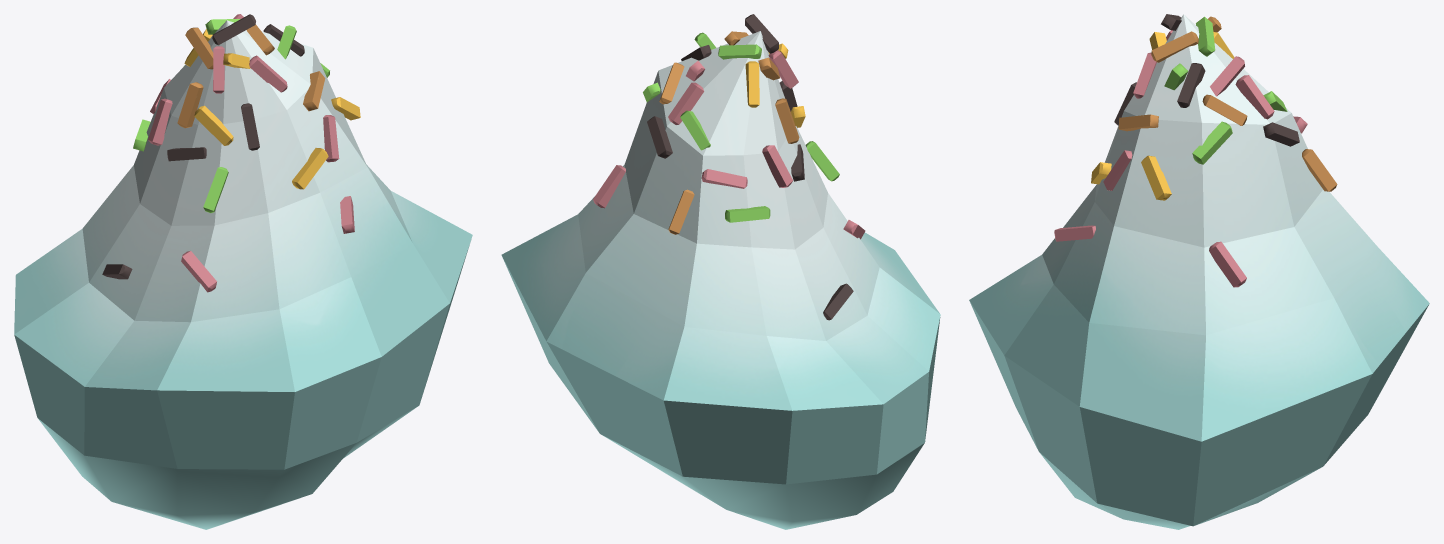
File: shabed06.fbx
3 views of the same model, side by side, from view 1: azimuth 30°, elevation 25°; view 2: azimuth 150°, elevation 25°; view 3: azimuth 270°, elevation 25° (orthographic). The views are drawn at different scales.
Visible parts, largest first — view 1: shabed06; view 2: shabed06; view 3: shabed06.
Part boxes in pixels (box(x1,y1,x2,y2)): shabed06: box(14, 14, 472, 529); shabed06: box(501, 14, 940, 529); shabed06: box(969, 14, 1429, 529).
Size of the model in its own units: 696 by 801 by 625.
